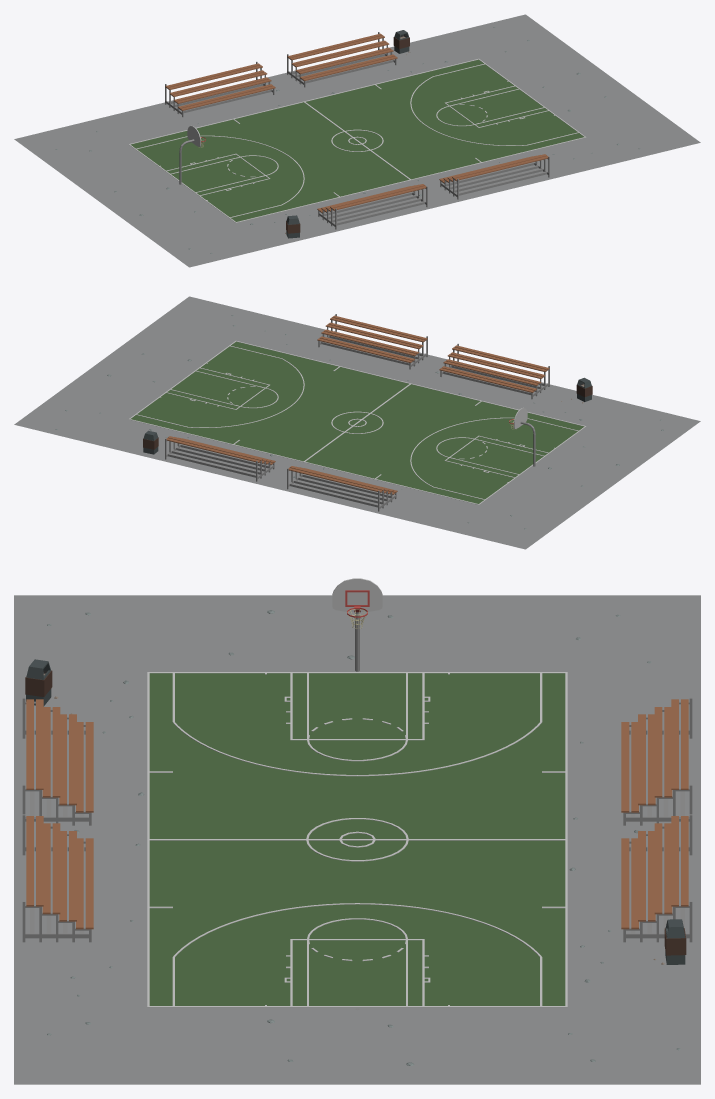
The model's file is BasketballCourt 1.fbx.
3 renders of one model, top to bottom at view 1: azimuth 30°, elevation 25°; view 2: azimuth 150°, elevation 25°; view 3: azimuth 270°, elevation 25°, orthographic. The views are drawn at different scales.
Visible parts, largest first — view 1: Basketball Terrain; view 2: Basketball Terrain; view 3: Basketball Terrain.
Part boxes in pixels (x1,y1,x2,y2): Basketball Terrain: [14, 14, 700, 267]; Basketball Terrain: [14, 296, 700, 549]; Basketball Terrain: [14, 578, 700, 1084].
Bounding box in the file's own units: 4194 × 433 × 2489.
